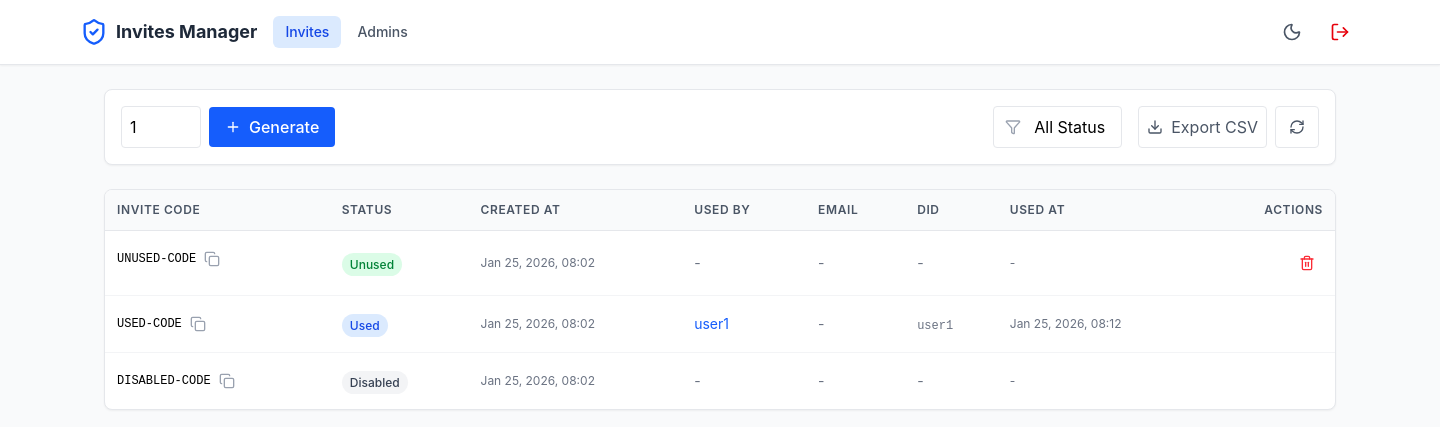
it: App › filters the invite list by status
The image size is (1440, 427).
Expected: the text "UNUSED-CODE" is shown, [105,231,330,287]
Select "Unused" in the dropdown at {"x": 1058, "y": 127}, box [993,106,1122,148]
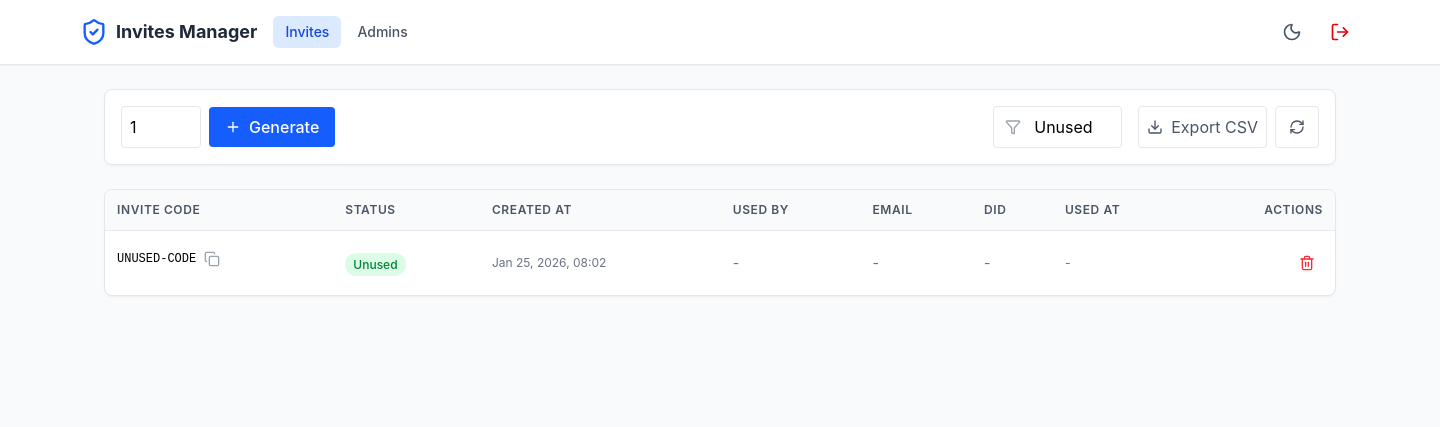
Expected: the text "UNUSED-CODE" is shown, [105,231,333,287]
Expected: the text "DISABLED-CODE" is gone
Select "Used" in the dropdown at {"x": 1058, "y": 127}, box [993,106,1122,148]
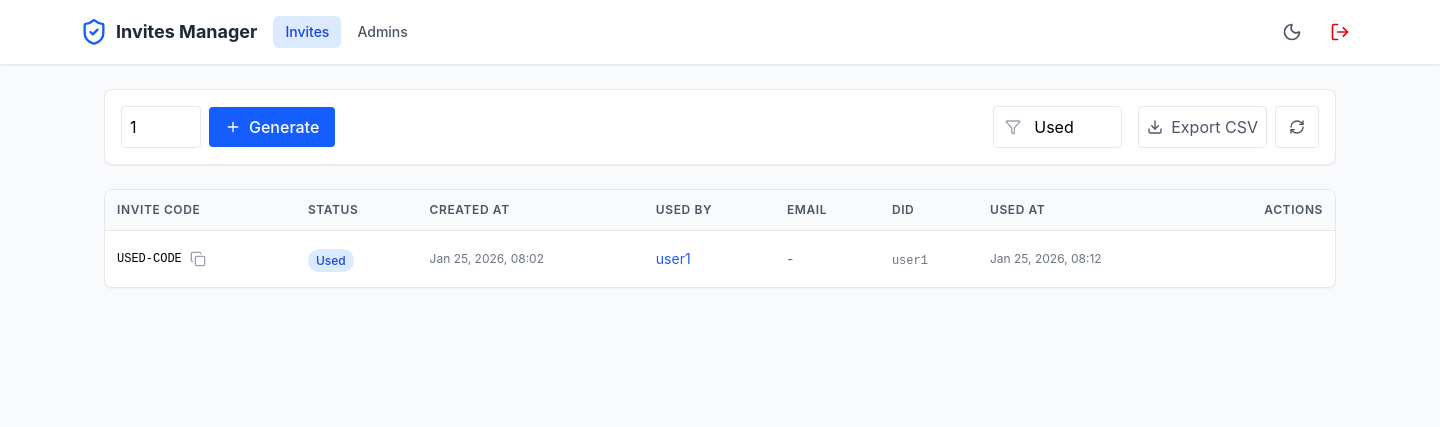
Expected: the text "USED-CODE" is shown, [105,231,296,287]
Expected: the text "UNUSED-CODE" is gone
Select "Disabled" in the dropdown at {"x": 1058, "y": 127}, box [993,106,1122,148]
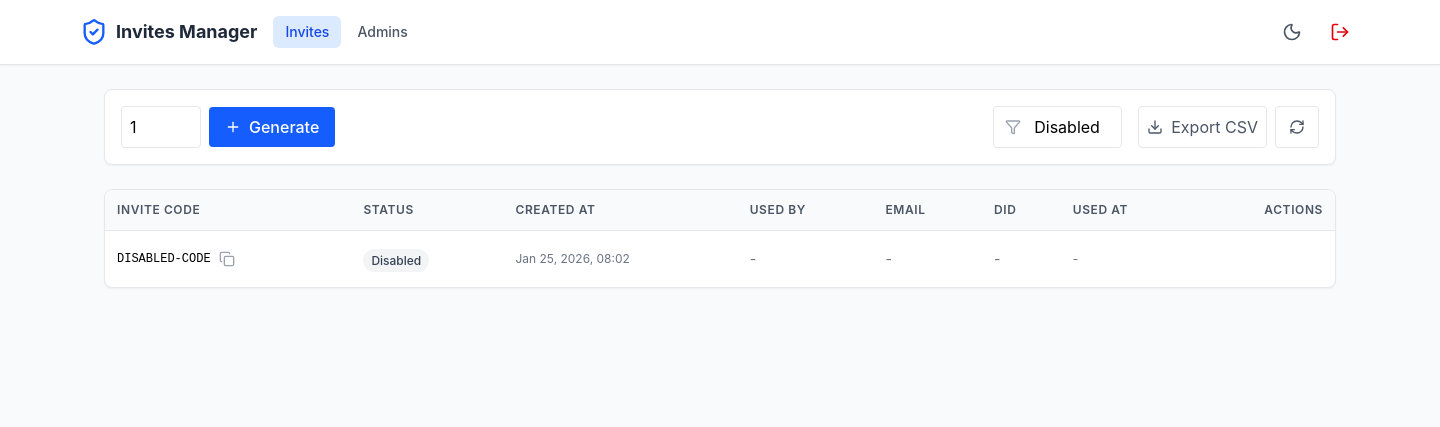
Expected: the text "DISABLED-CODE" is shown, [105,231,351,287]
Expected: the text "USED-CODE" is gone
Select "All Status" in the dropdown at {"x": 1058, "y": 127}, box [993,106,1122,148]
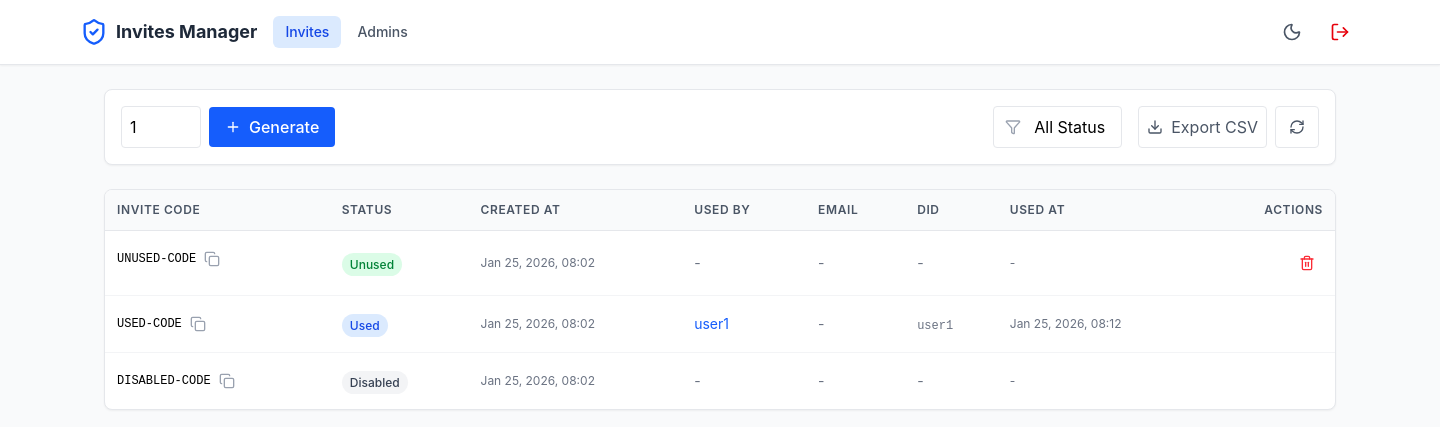
Expected: the text "DISABLED-CODE" is shown, [105,353,330,409]
Expected: the text "USED-CODE" is shown, [105,296,330,352]
Expected: the text "UNUSED-CODE" is shown, [105,231,330,287]
